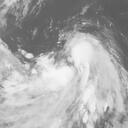cyclone: (66, 37, 103, 68)
